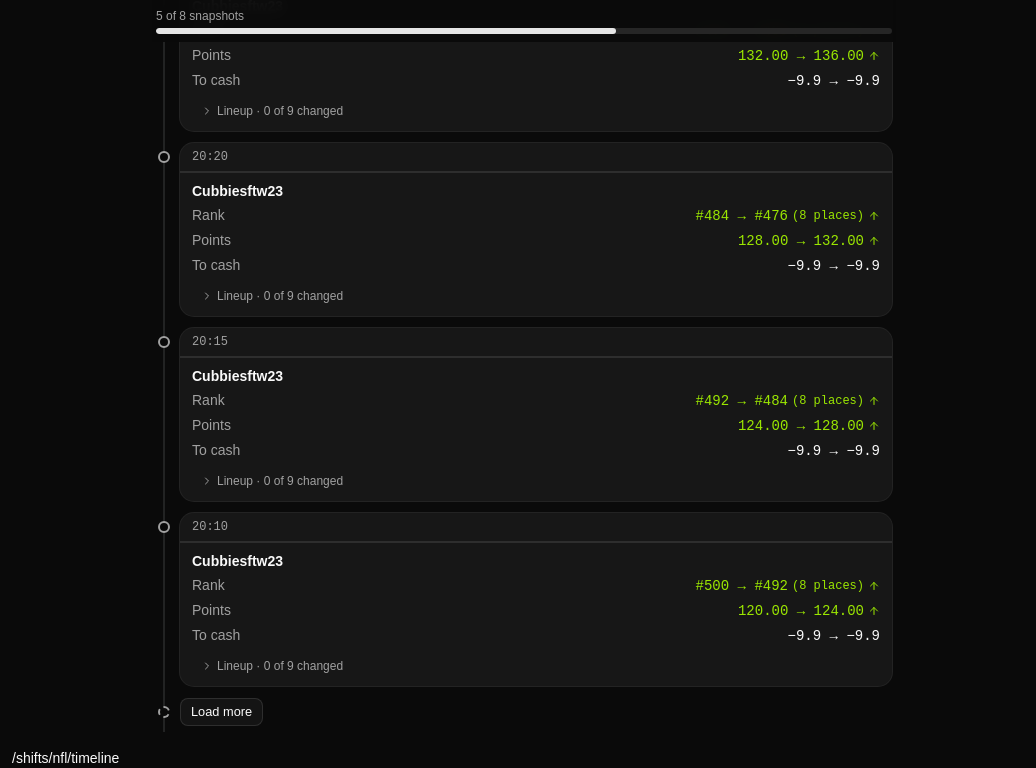
Scenario: the Timeline tab › range and Load more › ends at the cap with its own note
This screenshot has width=1036, height=768.
(page scrolled)
Step 1. Click the button "Load more" → click(222, 712), box [180,698,263,726]
(page scrolled)
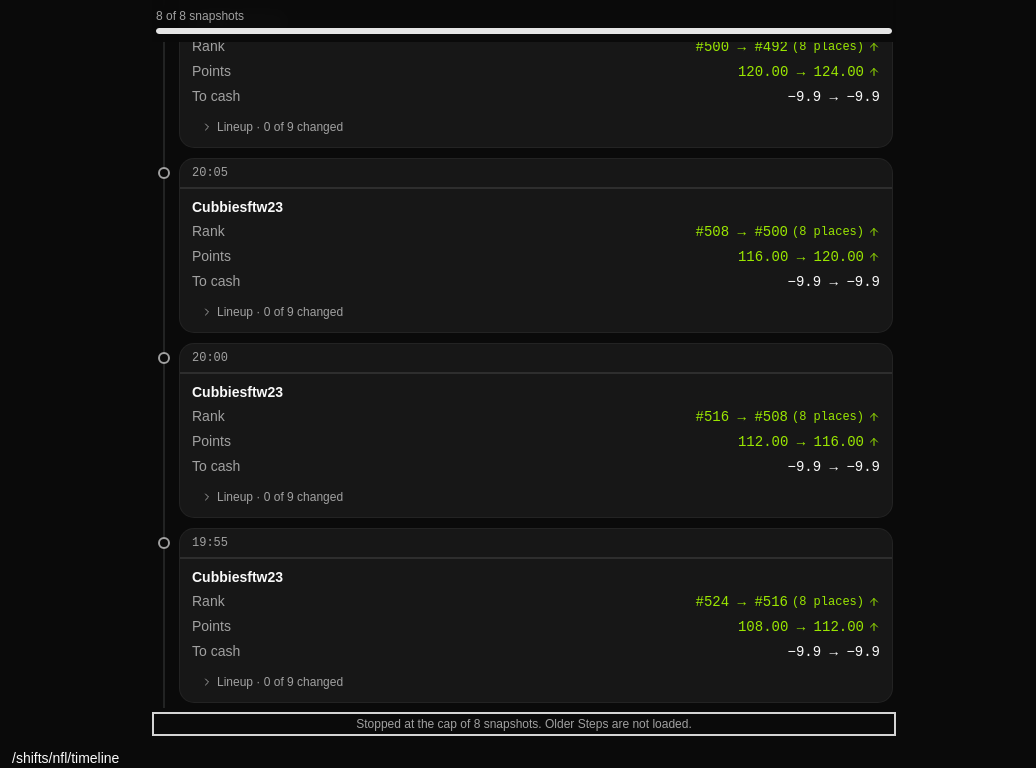
Expected: the text "cap of 8 snapshots" is shown, [356,717,692,731]
Expected: the button "Load more" is gone
